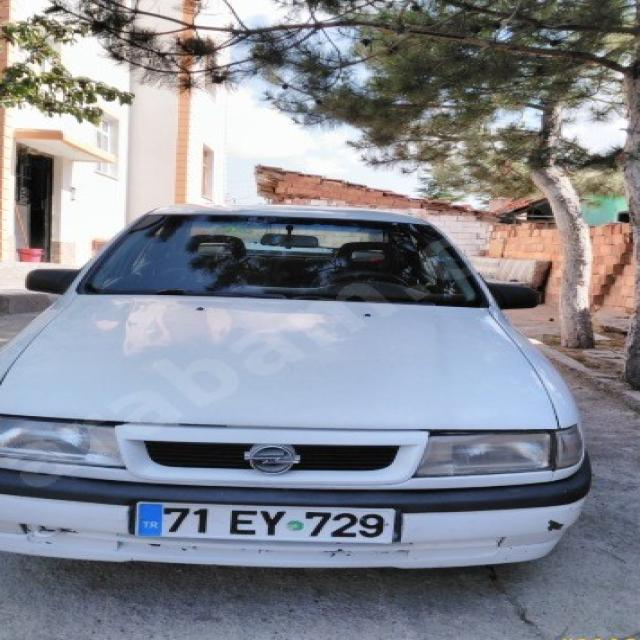license_plate: (133, 501, 396, 543)
